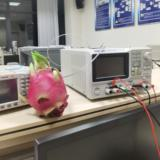pitaya: (27, 51, 69, 118)
